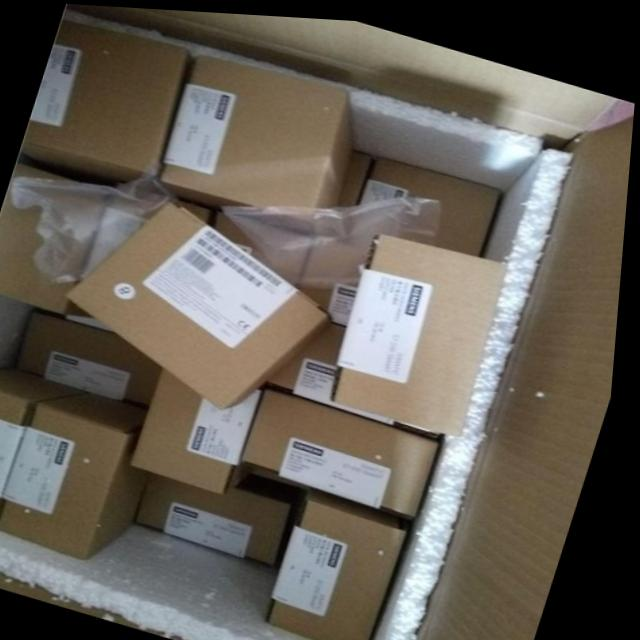box: (0, 3, 636, 640), (71, 198, 334, 408), (338, 226, 506, 429), (159, 52, 359, 205), (18, 19, 192, 188), (0, 390, 157, 561), (253, 384, 448, 513), (273, 479, 415, 640), (129, 363, 270, 488), (0, 161, 112, 314), (0, 366, 101, 519), (347, 153, 506, 249), (141, 466, 298, 562), (22, 313, 170, 402), (85, 184, 213, 274), (219, 205, 318, 285), (279, 317, 355, 403), (305, 232, 374, 320), (341, 141, 378, 206)
